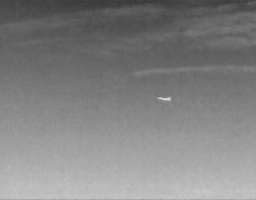Target: (158, 97, 170, 101)
